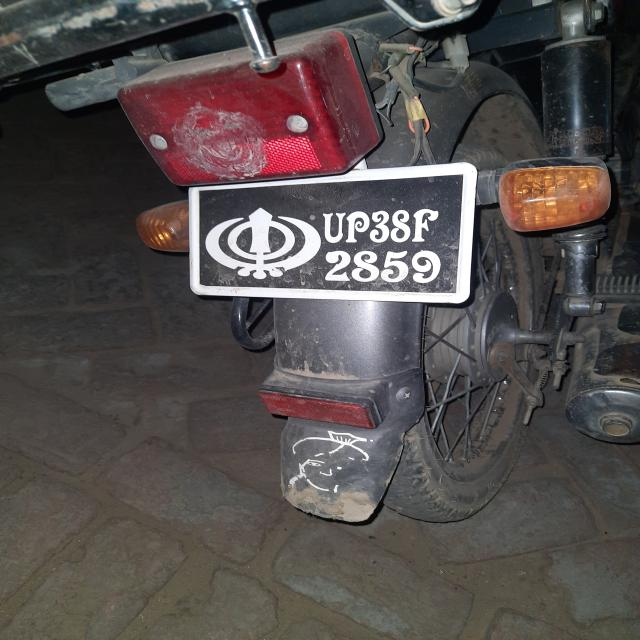number_plate: (185, 160, 480, 306)
